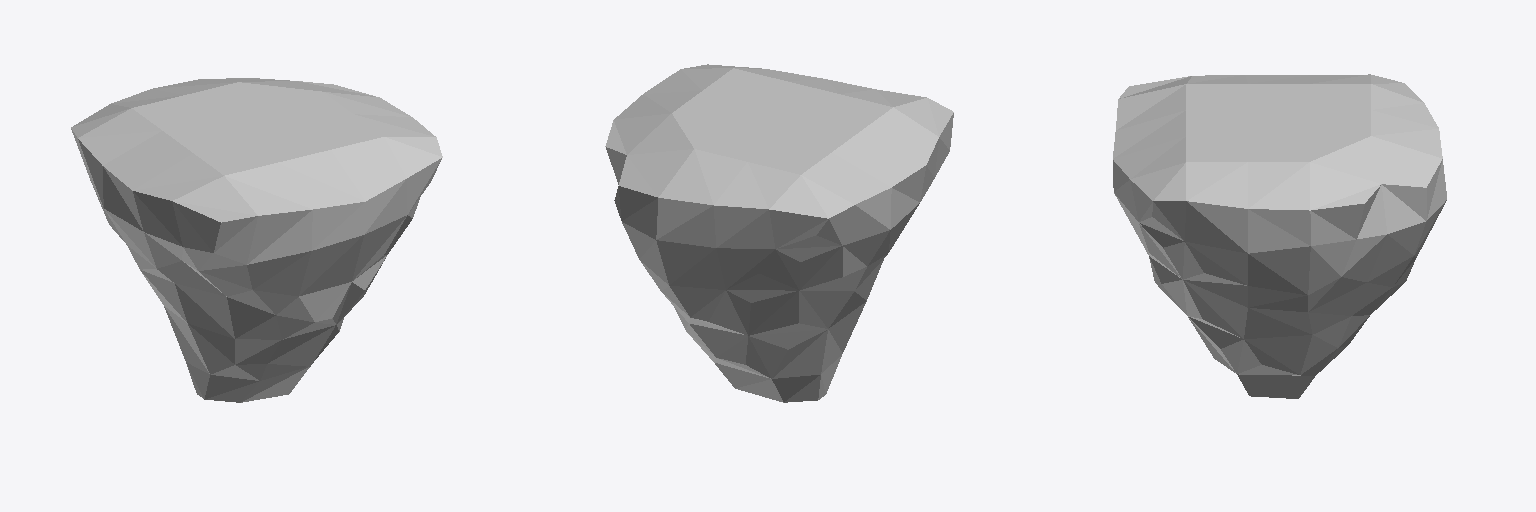
Rendered from island.obj.
3 views of the same model, side by side, from view 1: azimuth 30°, elevation 25°; view 2: azimuth 150°, elevation 25°; view 3: azimuth 270°, elevation 25° (orthographic).
Visible parts, largest first — view 1: ground_1_B; view 2: ground_1_B; view 3: ground_1_B.
Boxes of the visible parts, <box> form: ground_1_B: <box>71,78,442,402</box>; ground_1_B: <box>605,64,953,402</box>; ground_1_B: <box>1113,74,1446,398</box>.
Bounding box in the file's own units: 7.82 × 7.08 × 8.04.